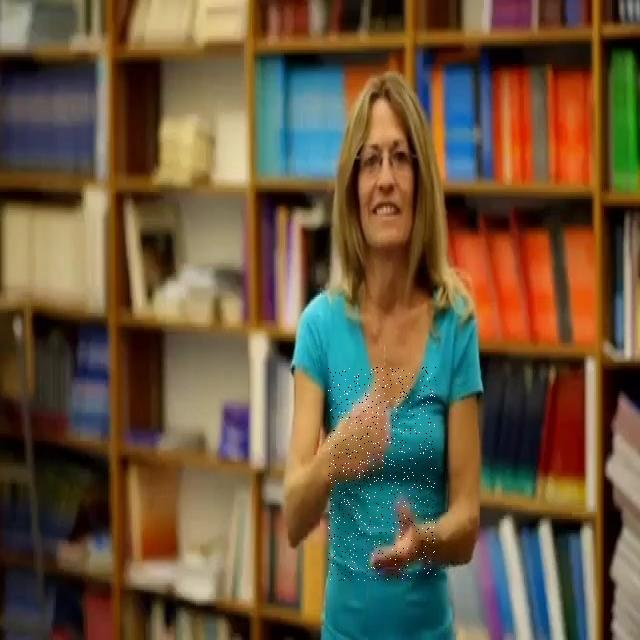cup: (328, 367, 436, 581)
